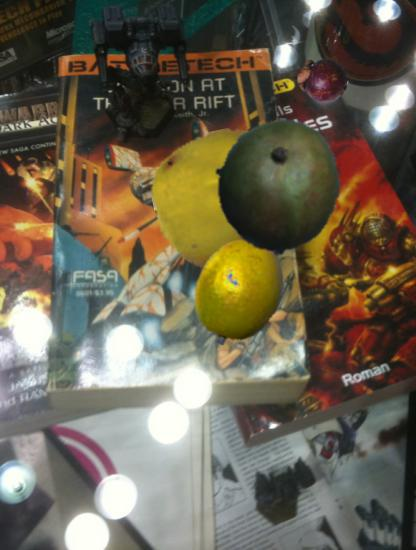Mango: (210, 118, 345, 253)
Mangostan: (292, 51, 348, 107)
Maracuja: (183, 236, 295, 348)
Quince: (154, 130, 298, 274)
